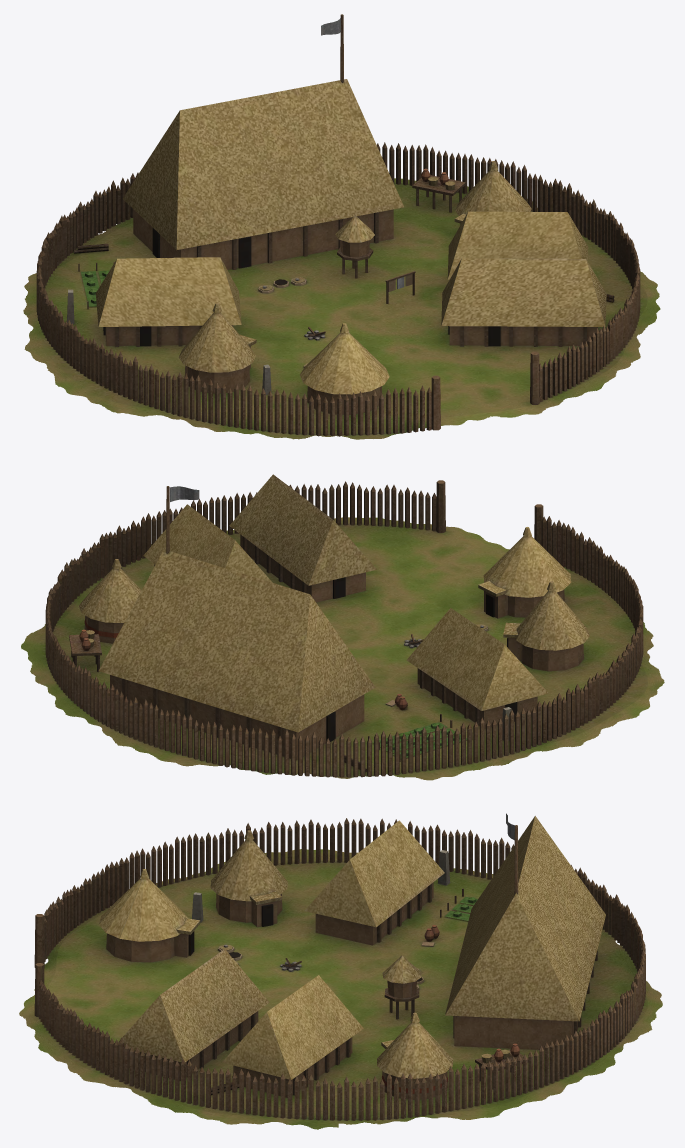
Rendered from stone-town-small-a-europe.glb.
3 views of the same model, one above another, from view 1: azimuth 30°, elevation 25°; view 2: azimuth 150°, elevation 25°; view 3: azimuth 270°, elevation 25° (orthographic). The views are drawn at different scales.
Parts seen in each view (by area): view 1: LOD0; view 2: LOD0; view 3: LOD0.
Boxes of the visible parts, x1,y1,x2,y2 form: LOD0: (23, 14, 660, 439); LOD0: (21, 474, 664, 780); LOD0: (19, 813, 662, 1129).
Size of what is drawn, in the model's own units: 3.98 by 1.4 by 3.88.
Materials: 3 (3 with a texture image).
